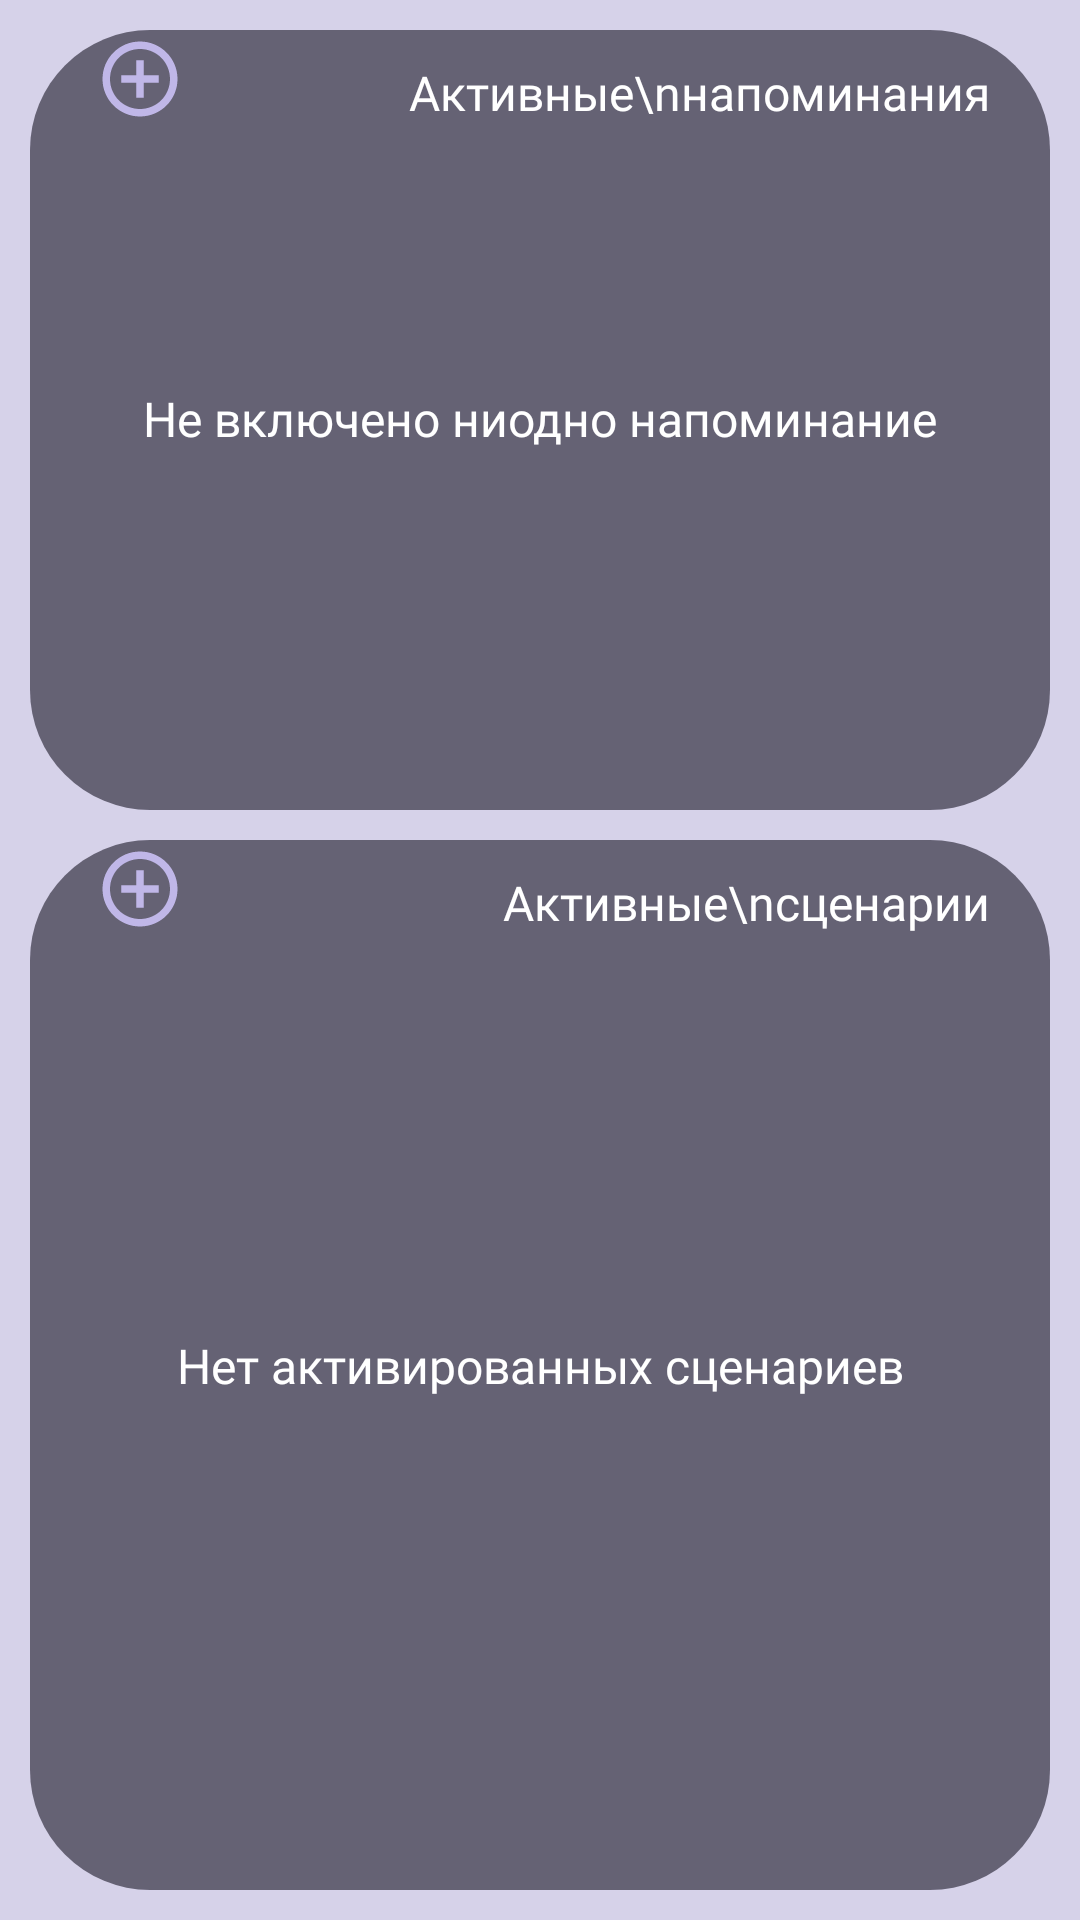

Named icons in this screenshot (1080x1920) and their bounding boxes, (x1, y1, x2, y2):
plusoutlinedact: (102, 41, 178, 117), (102, 851, 178, 927)
